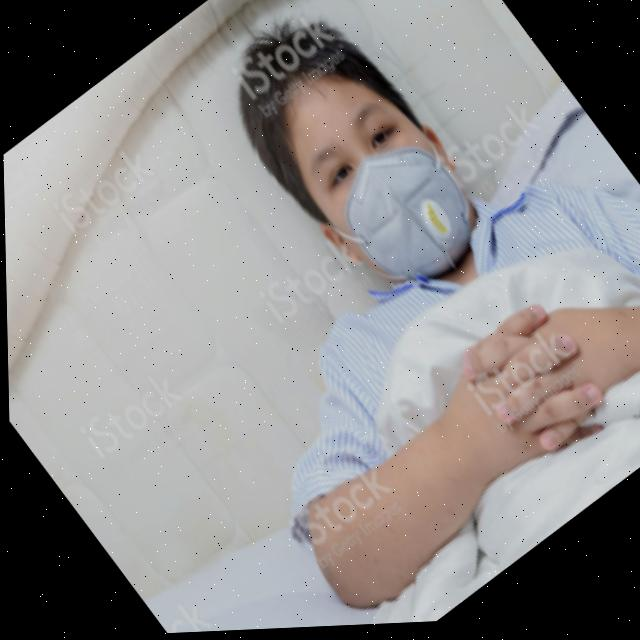Mask: (300, 116, 507, 324)
